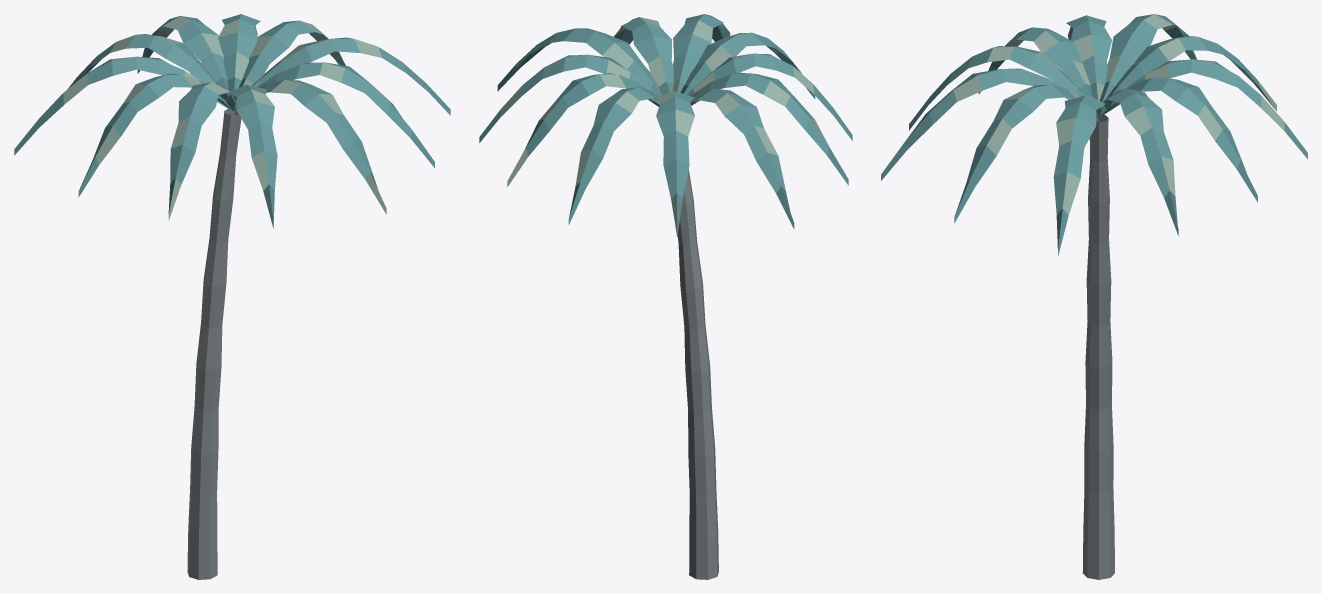
File: palm-1.glb
3 views of the same model, side by side, from view 1: azimuth 30°, elevation 25°; view 2: azimuth 150°, elevation 25°; view 3: azimuth 270°, elevation 25° (orthographic). The views are drawn at different scales.
Visible parts, largest first — view 1: Palm_Crown_1, Palm_Trunk_1; view 2: Palm_Crown_1, Palm_Trunk_1; view 3: Palm_Crown_1, Palm_Trunk_1.
Part boxes in pixels (bbox=[...]): Palm_Crown_1: bbox=[14, 14, 450, 228]; Palm_Trunk_1: bbox=[187, 109, 241, 579]; Palm_Crown_1: bbox=[479, 14, 852, 236]; Palm_Trunk_1: bbox=[677, 169, 718, 579]; Palm_Crown_1: bbox=[881, 14, 1307, 256]; Palm_Trunk_1: bbox=[1082, 115, 1114, 579].
Bounding box in the file's own units: 3.81 × 5.07 × 3.7.
